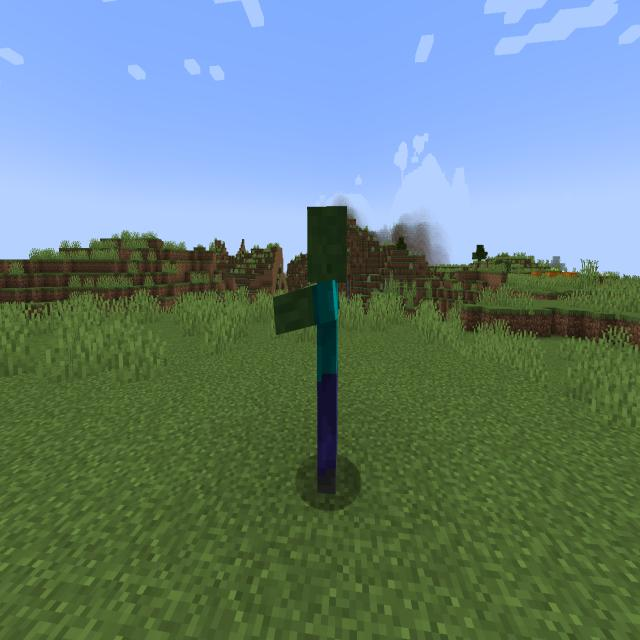Zombie: (268, 197, 354, 526)
